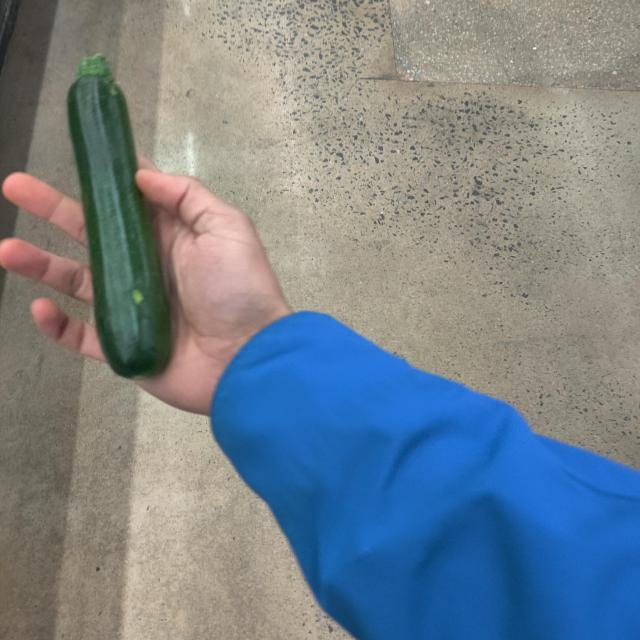Zucchini: (35, 54, 201, 403)
